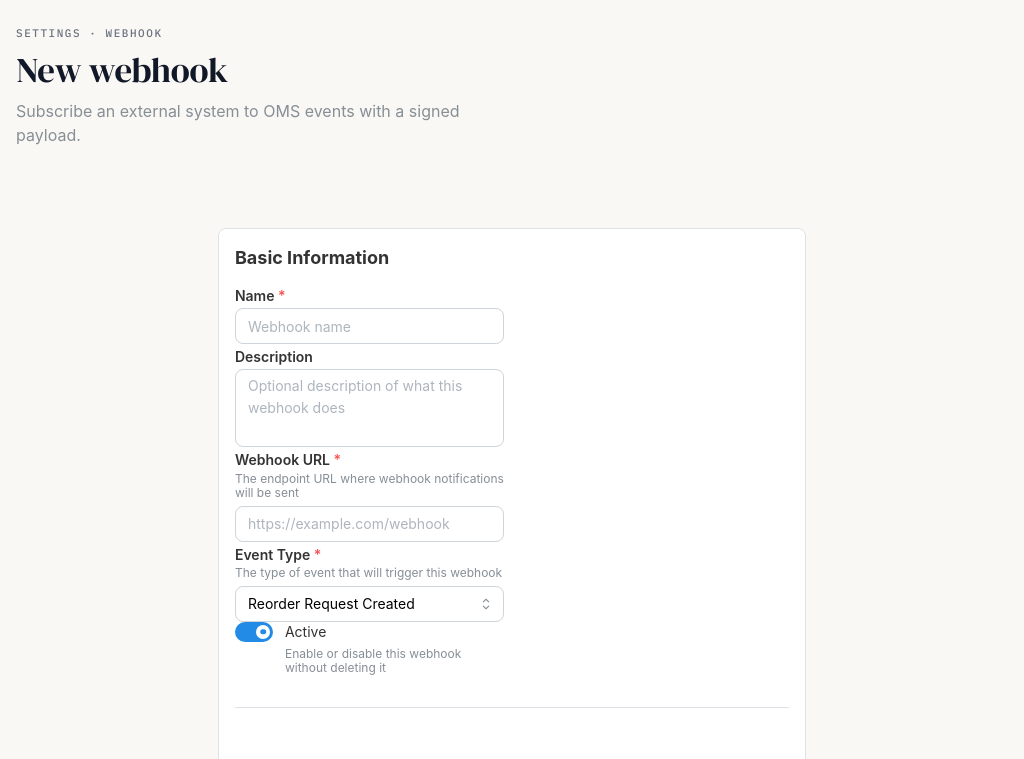
WebhookFormPage › surfaces a forbidden error when creating is denied
Type "New Hook" into the field labelled "Name *" at (369, 326), box [235,308,504,344]
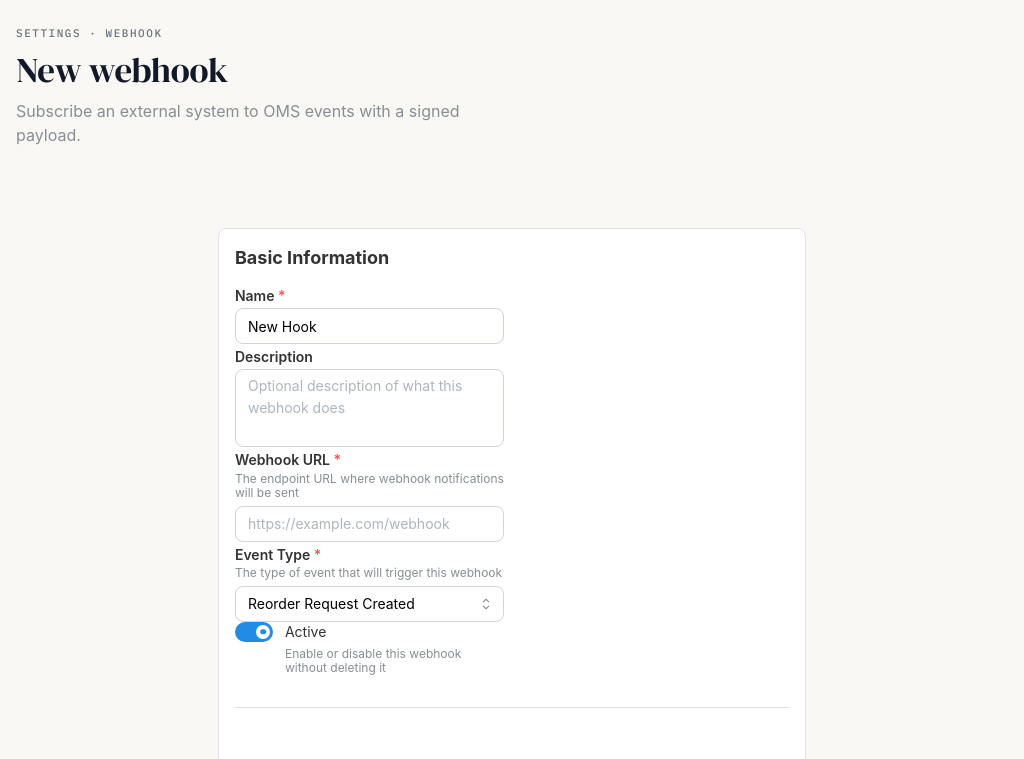
Type "https://example.com/new-hook" into the field labelled "Webhook URL *" at (369, 524), box [235,506,504,542]
(page scrolled)
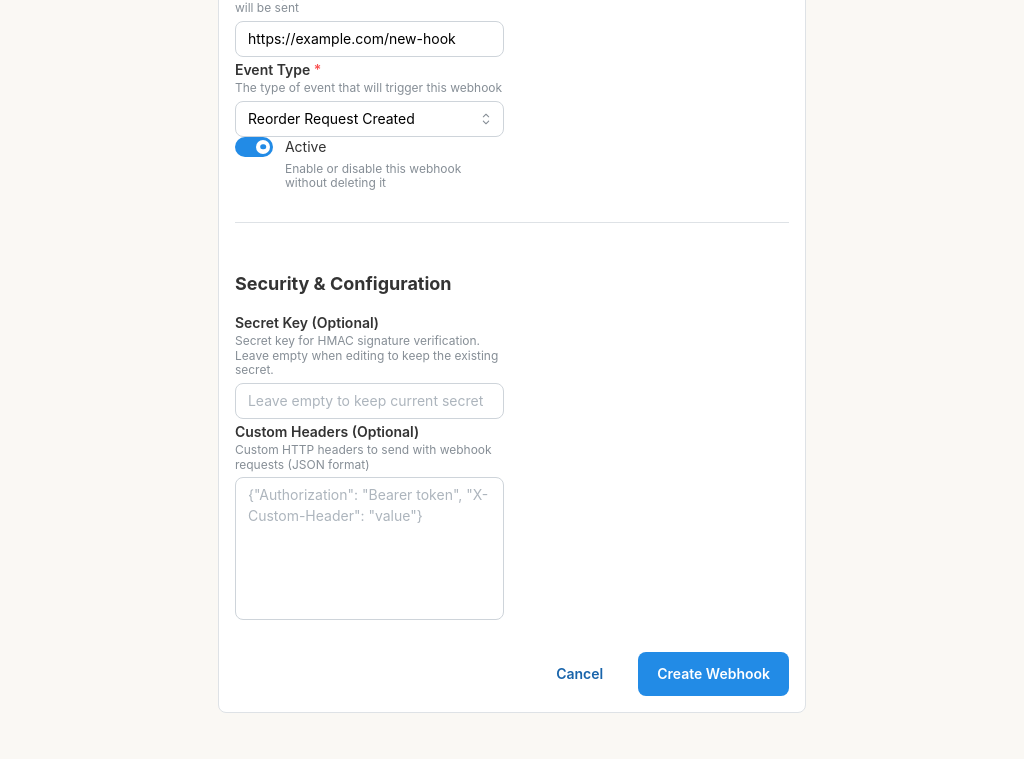
Click the button "Create Webhook" at (714, 674), box [638,652,789,696]
(page scrolled)
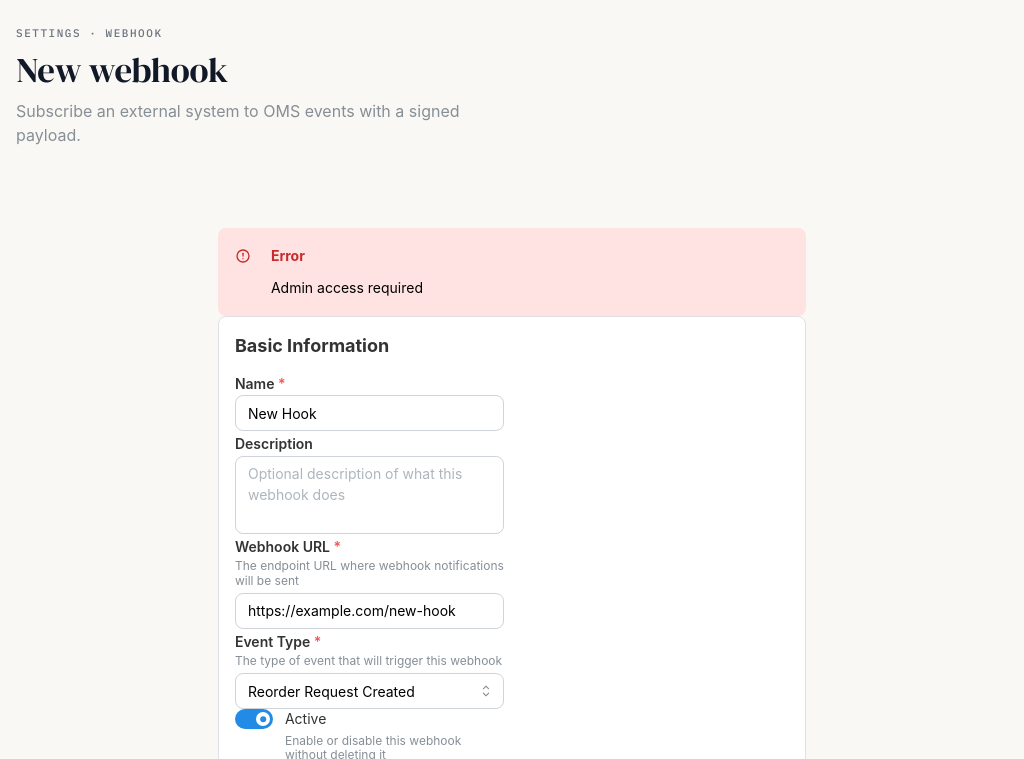
Check: the text "Admin access required" is shown, box [271,279,423,296]
